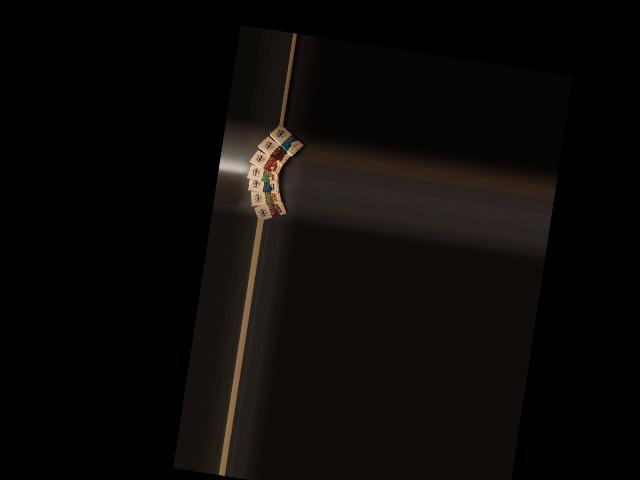chocolate: (265, 124, 308, 158)
